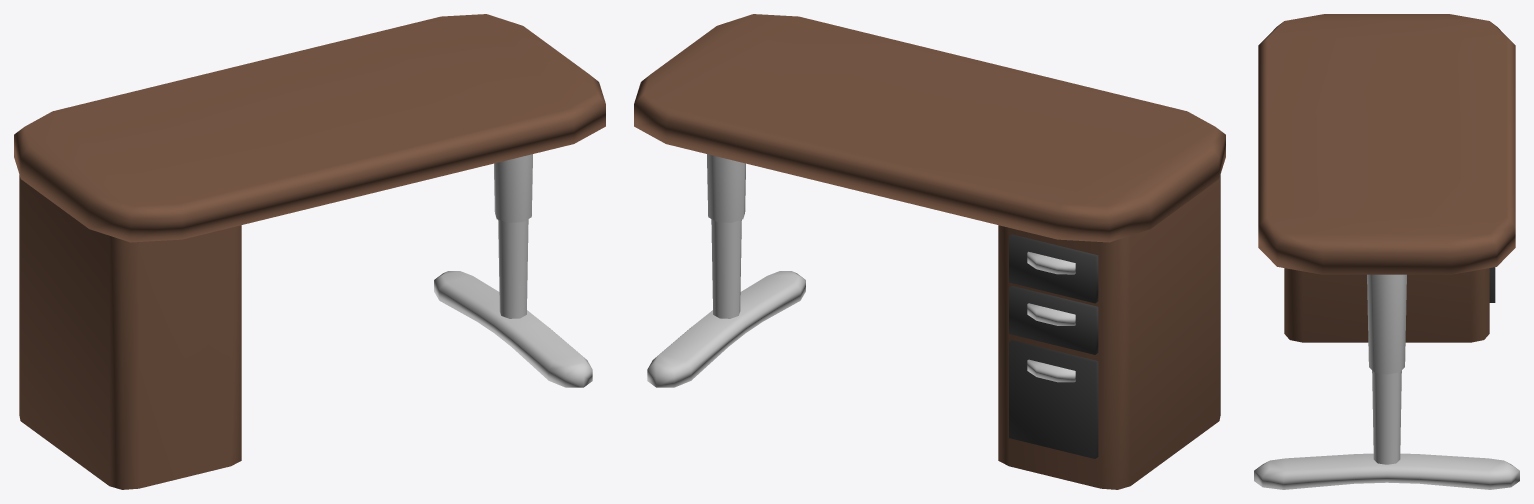
The model's file is mesh_desk_01.fbx.
3 views of the same model, side by side, from view 1: azimuth 30°, elevation 25°; view 2: azimuth 150°, elevation 25°; view 3: azimuth 270°, elevation 25° (orthographic). The views are drawn at different scales.
Visible parts, largest first — view 1: mesh_desk_01; view 2: mesh_desk_01; view 3: mesh_desk_01.
Boxes of the visible parts, box(x1,y1,x2,y2) form: mesh_desk_01: box(14, 14, 605, 489); mesh_desk_01: box(634, 14, 1225, 489); mesh_desk_01: box(1254, 14, 1519, 489).
Bounding box in the file's own units: 46.76 × 24.86 × 22.36.
